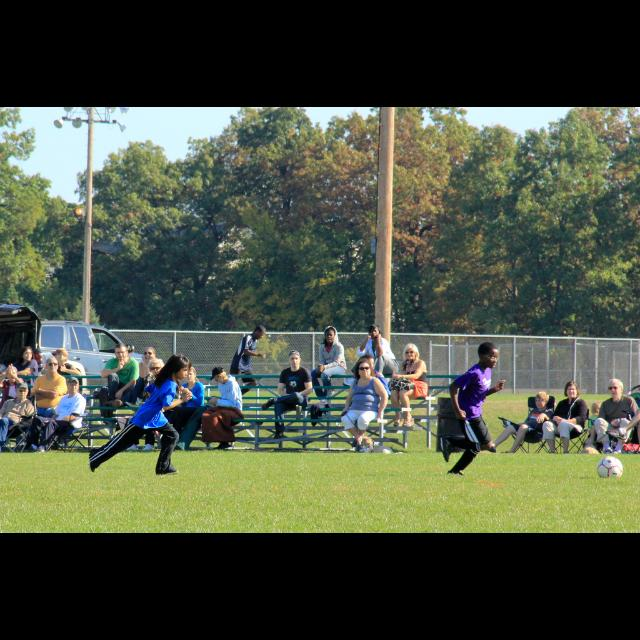Football: (598, 456, 622, 478)
